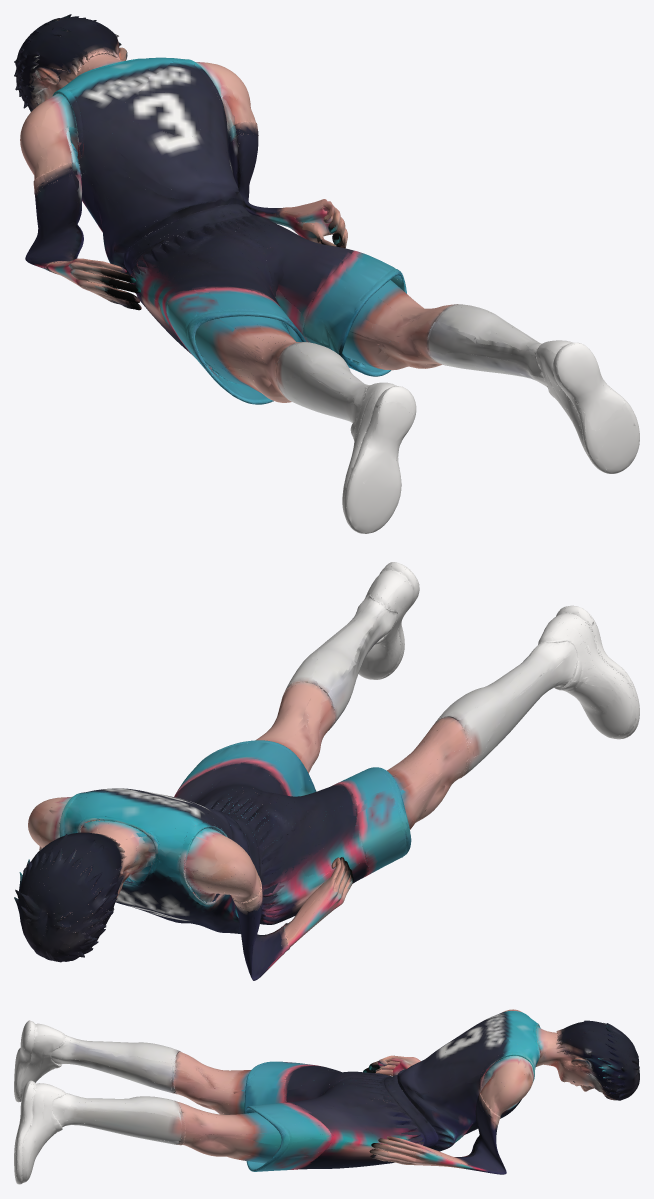
File: 吴昊阳趴姿.glb
3 renders of one model, top to bottom at view 1: azimuth 30°, elevation 25°; view 2: azimuth 150°, elevation 25°; view 3: azimuth 270°, elevation 25°, orthographic. The views are drawn at different scales.
Visible parts, largest first — view 1: lo; view 2: lo; view 3: lo.
Part boxes in pixels (x1,y1,x2,y2): lo: (14,14,639,533); lo: (14,562,639,980); lo: (14,1009,639,1184).
Size of the model in its own units: 0.59 by 0.3733 by 1.59.
2 materials, 1 textured.
